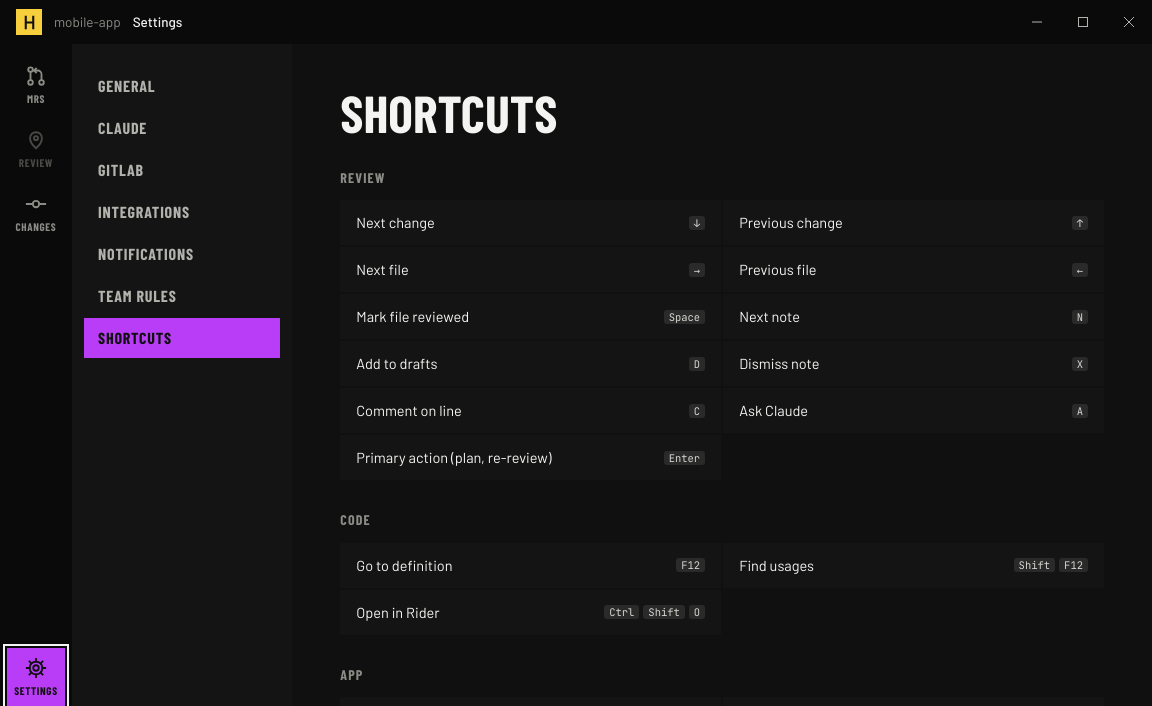
Test: Settings › Shortcuts › changing a shortcut › F-19.7 the next key becomes the shortcut, shows Reset on its row and is saved at once
Check: the heading "Shortcuts" is shown, box [340, 88, 557, 138]
Click the button named "Change shortcut for Next note" at (1080, 317), box [1068, 303, 1092, 331]
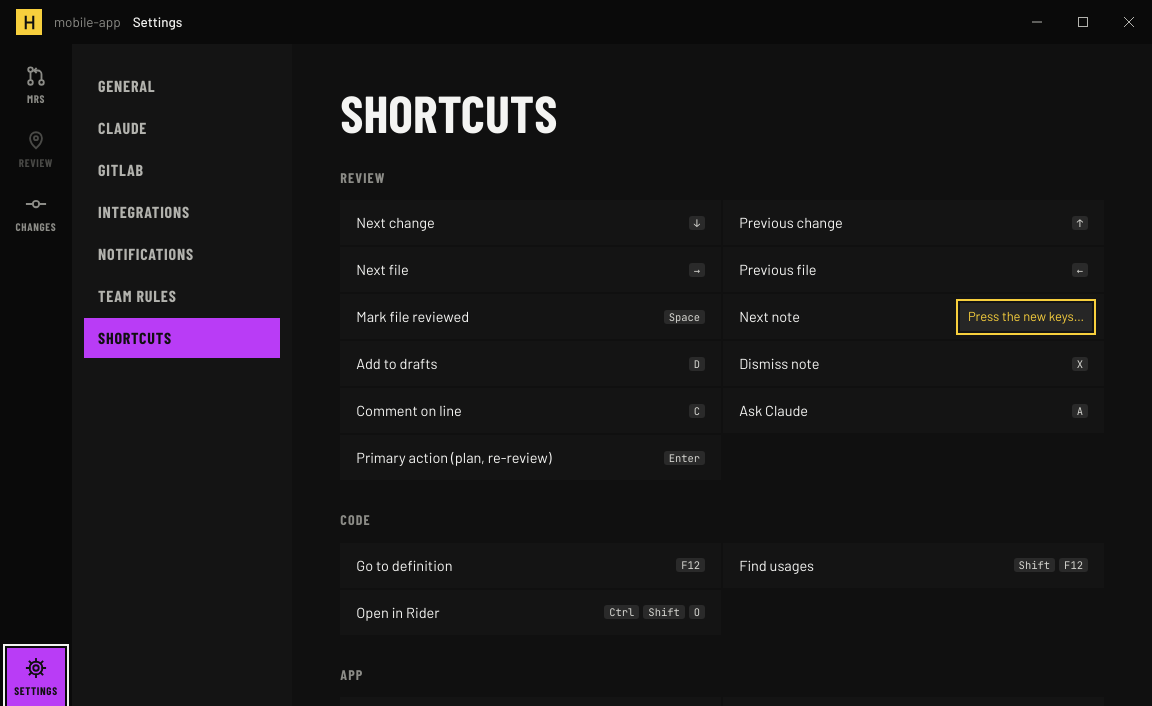
Type keys "m"
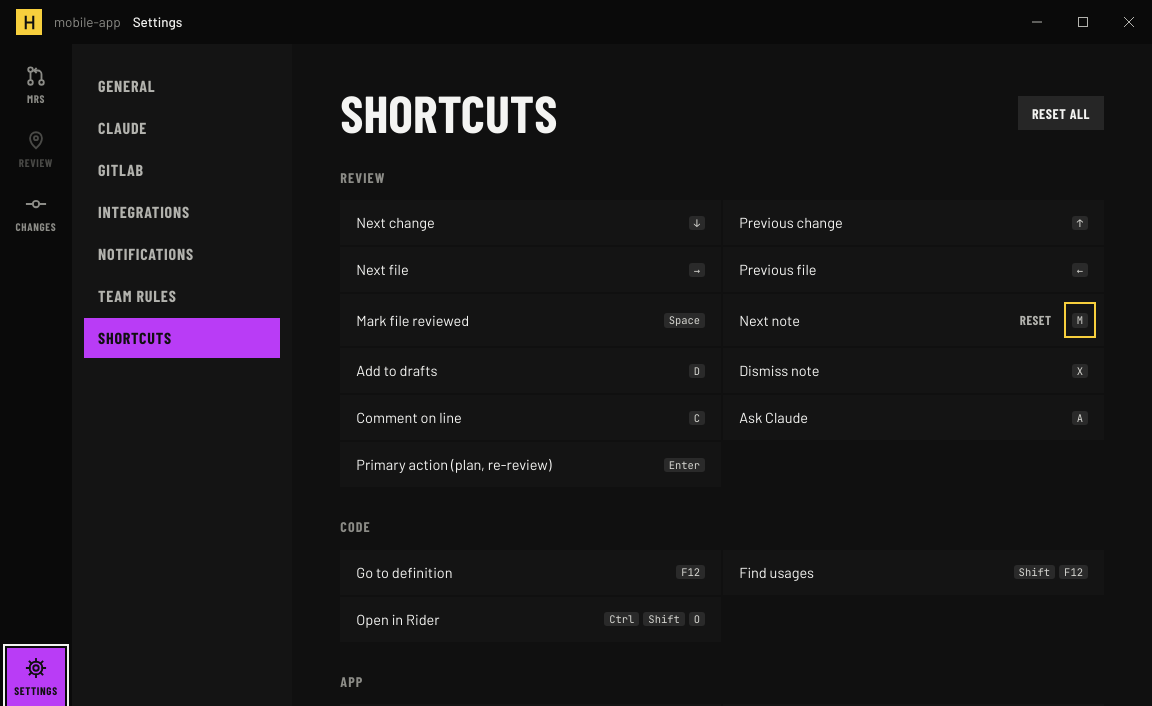
Check: the text "Press the new keys…" is gone
Check: the button "Reset" is shown, box [1008, 306, 1064, 334]
Check: the button "Reset all" is shown, box [1018, 96, 1104, 130]
